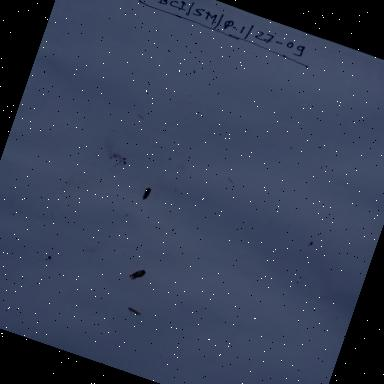pbw: (119, 260, 157, 293), (129, 180, 164, 210), (124, 304, 144, 318)
